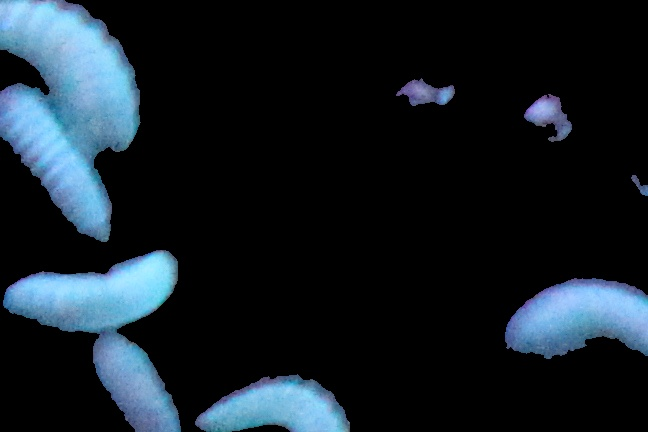larvae: (1, 1, 139, 147), (1, 84, 108, 244), (500, 269, 648, 364), (5, 253, 173, 332), (199, 371, 360, 432), (83, 332, 179, 432)
